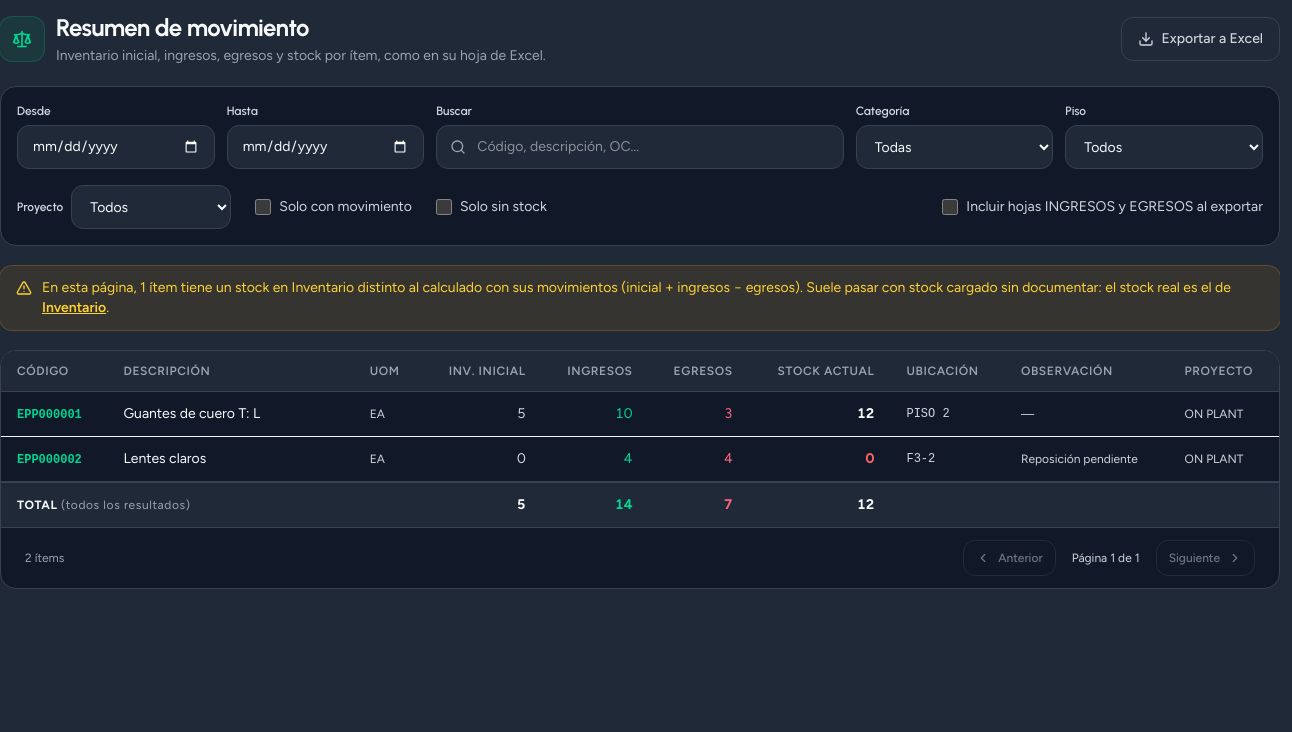
Test: ResumenPage › no consulta con un rango de fechas invertido y lo explica
Check: the table is shown, box x1=1 y1=351 x2=1279 y2=527
Type "2026-10-20" into the date field labelled "Desde" at (116, 147), box x1=17 y1=125 x2=215 y2=169
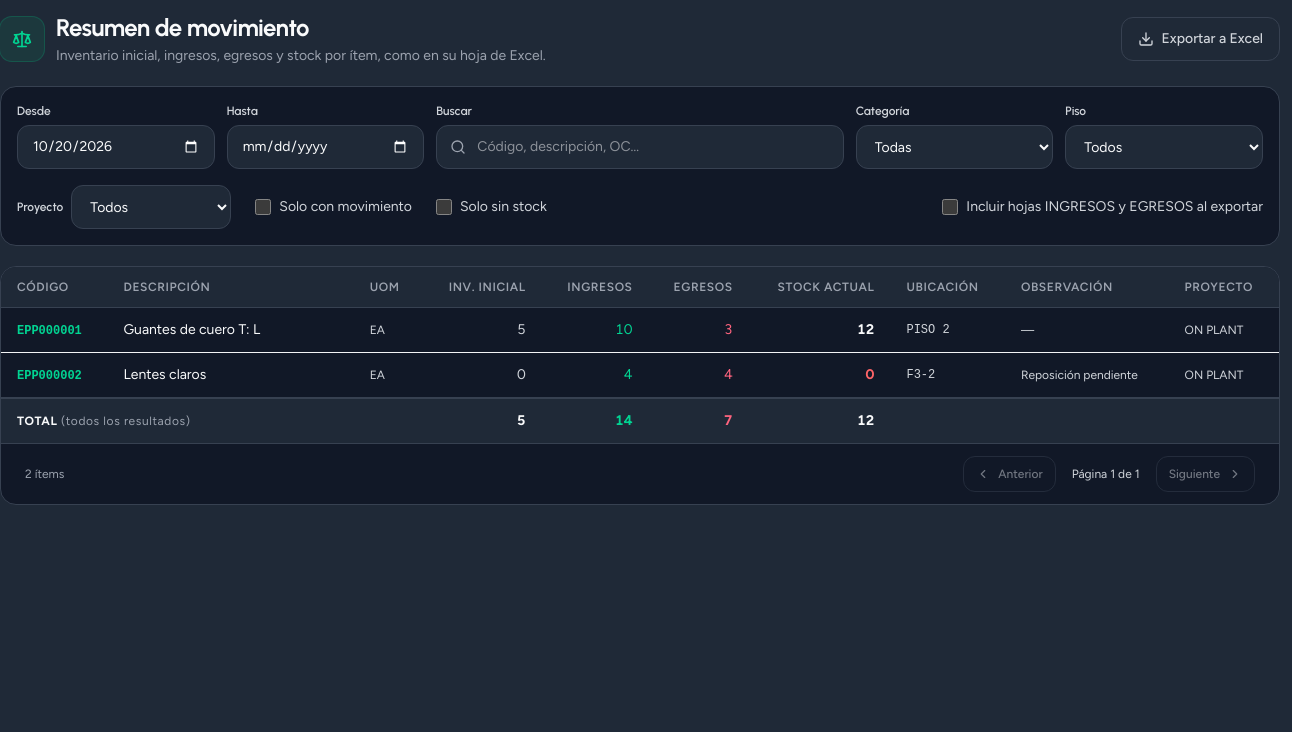
Type "2026-10-05" into the date field labelled "Hasta" at (326, 147), box x1=227 y1=125 x2=424 y2=169
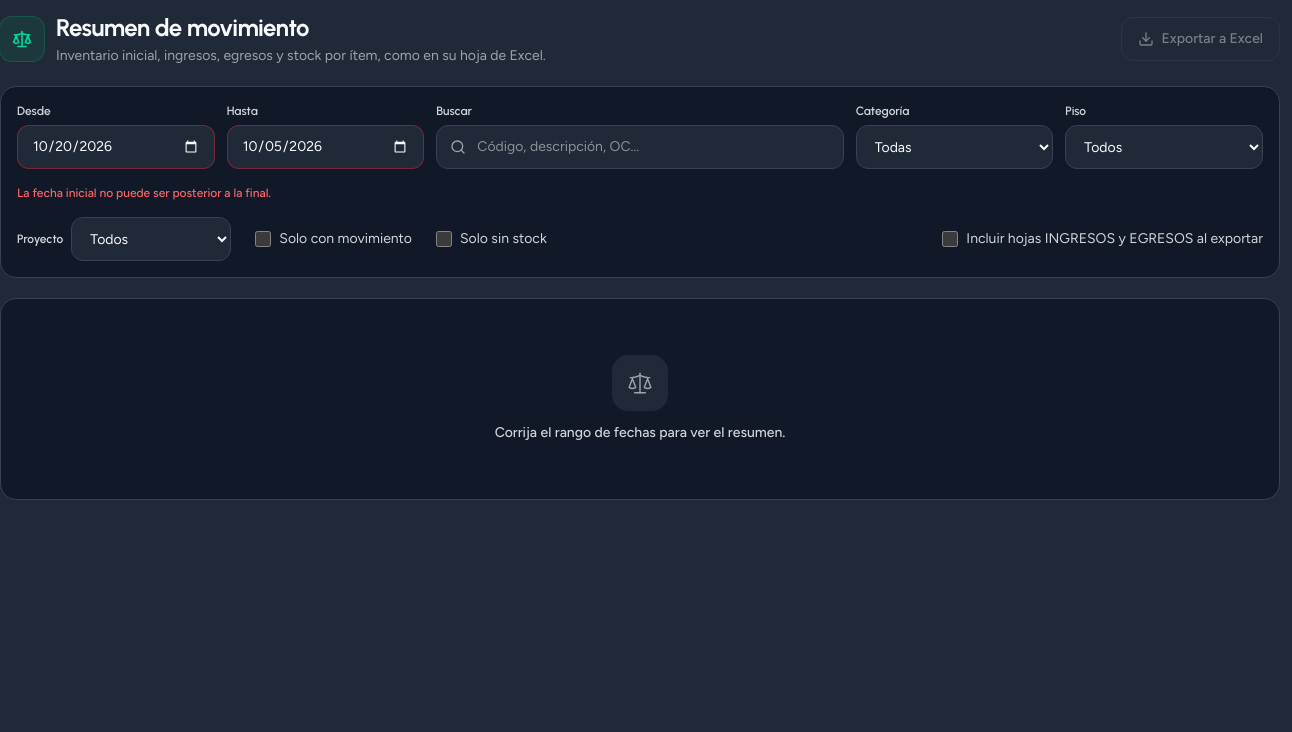
Check: the message reads "La fecha inicial no puede ser posterior a la final.", box x1=17 y1=186 x2=271 y2=200
